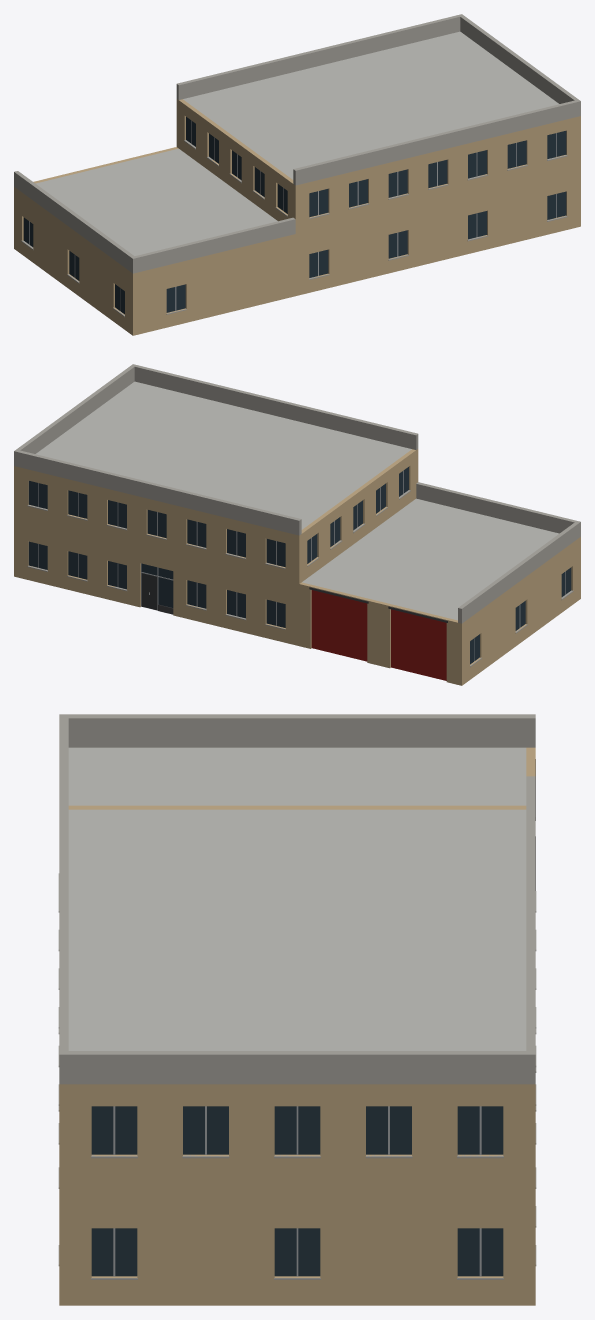
File: bld_police.glb
3 views of the same model, one above another, from view 1: azimuth 30°, elevation 25°; view 2: azimuth 150°, elevation 25°; view 3: azimuth 270°, elevation 25° (orthographic). The views are drawn at different scales.
Visible parts, largest first — view 1: bld_police-col; view 2: bld_police-col; view 3: bld_police-col.
Boxes of the visible parts, x1=… form: bld_police-col: x1=14, y1=14, x2=580, y2=335; bld_police-col: x1=14, y1=364, x2=580, y2=685; bld_police-col: x1=58, y1=714, x2=536, y2=1305.
Size of the model in its own units: 33.96 by 9.07 by 15.66.
